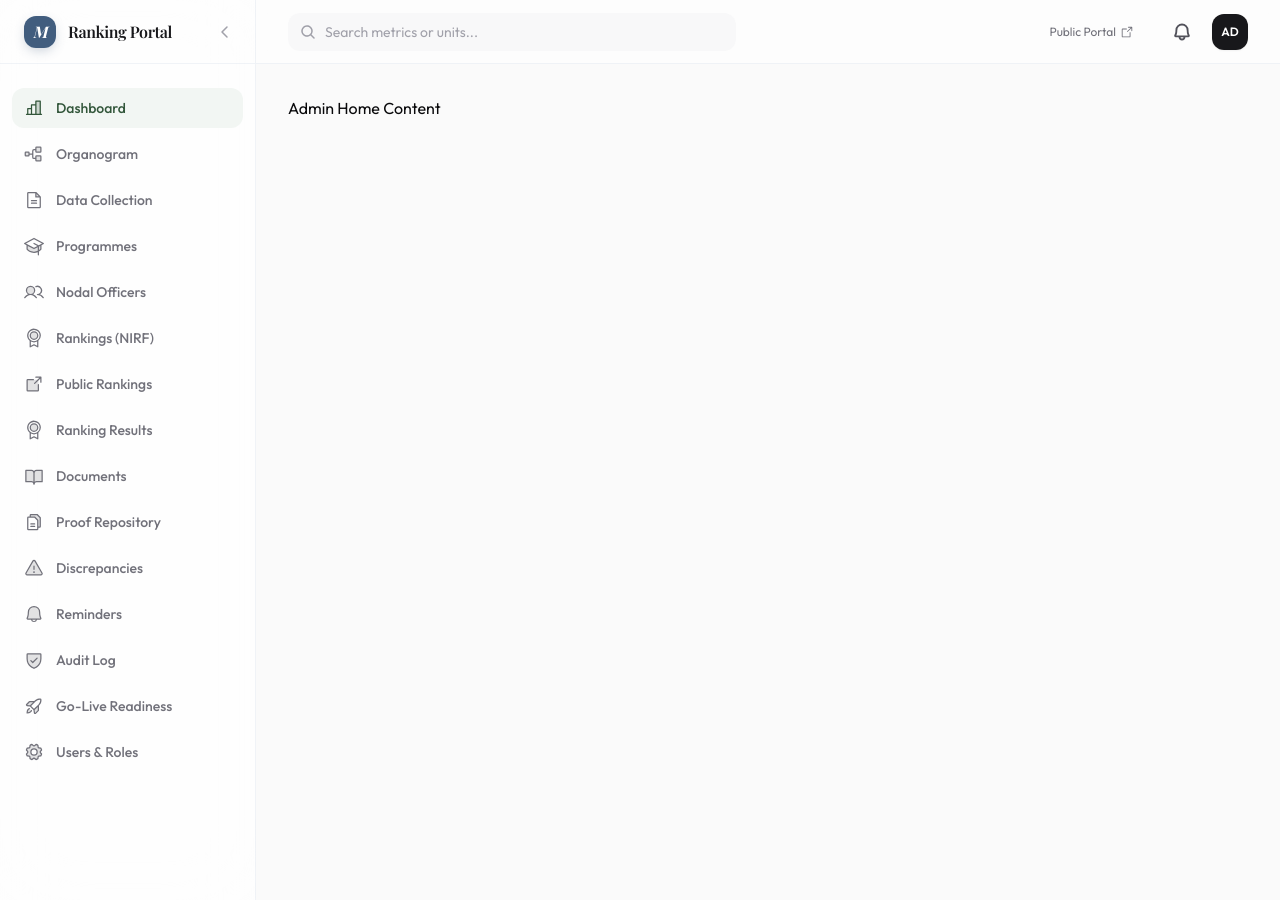
Test: DashboardLayout › opens the notifications dropdown
Step 1. Click the button named "Notifications" → [1182, 32], box [1164,14,1200,50]
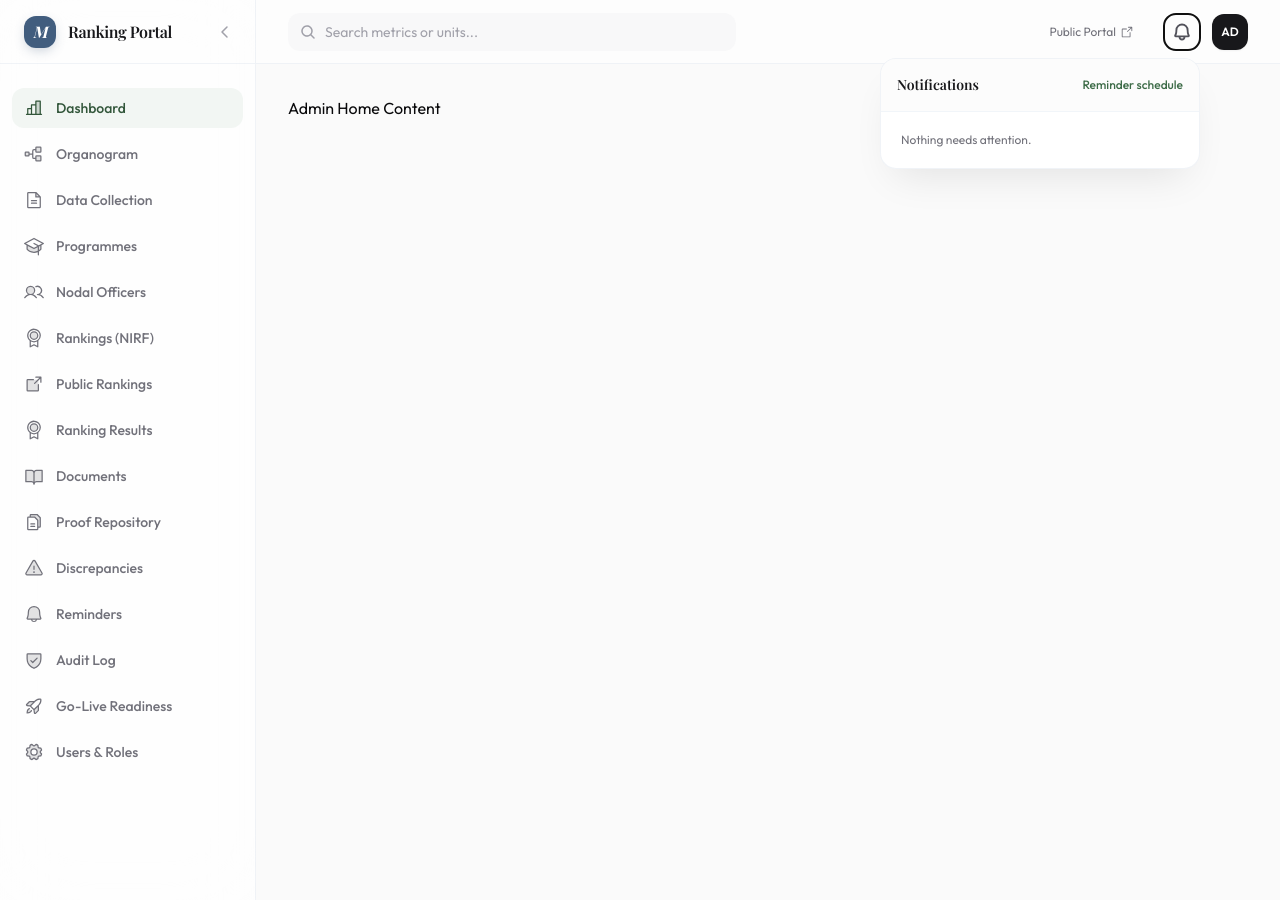
Check: the heading "Notifications" is shown, box [897,74,979,94]
Check: the link "Reminder schedule" is shown, box [1082,76,1183,92]
